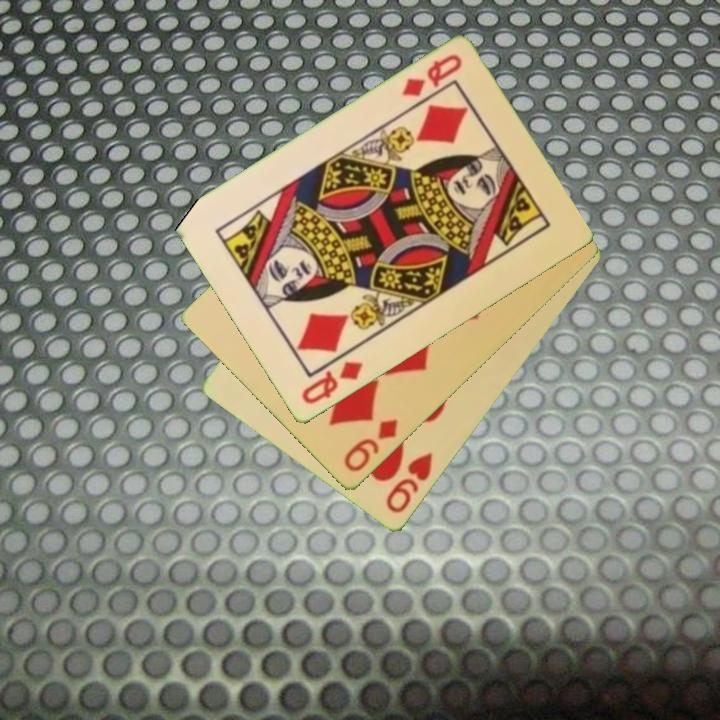9d: (340, 416, 401, 475)
9h: (382, 450, 436, 517)
Qd: (297, 358, 366, 408), (398, 51, 465, 100)
